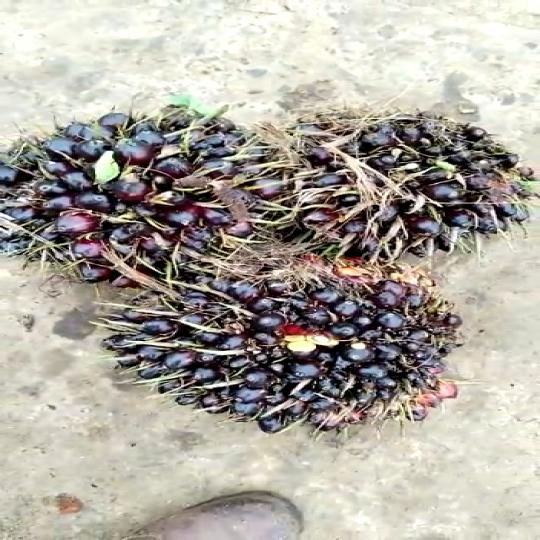mentah: (119, 275, 455, 444), (0, 111, 282, 286), (271, 110, 540, 256)
